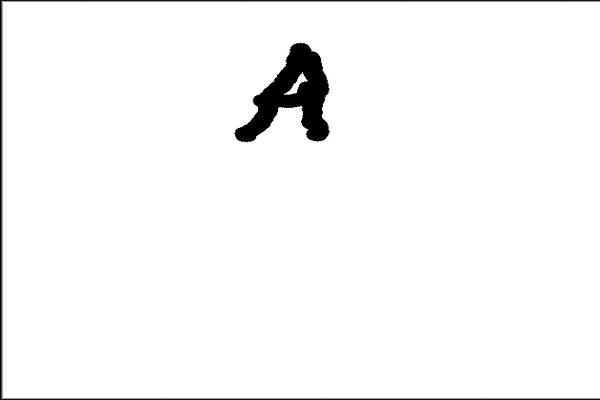A: (229, 33, 331, 153)
